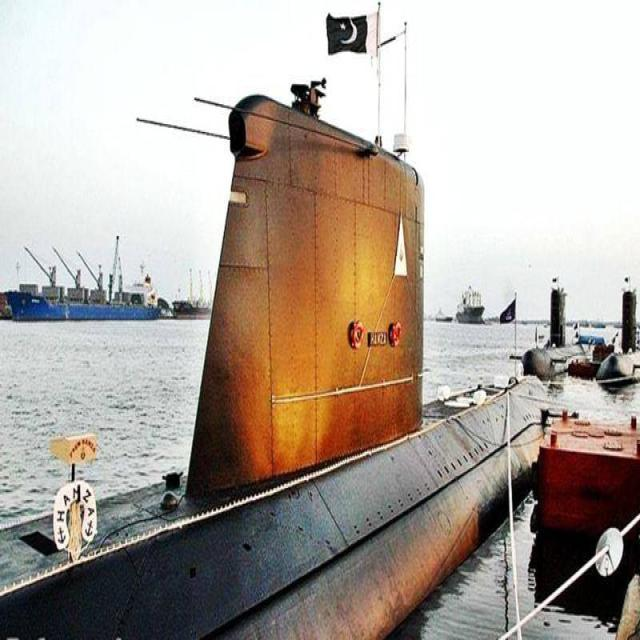Submarine-Agosta-Class-PAK: (1, 0, 550, 640)
